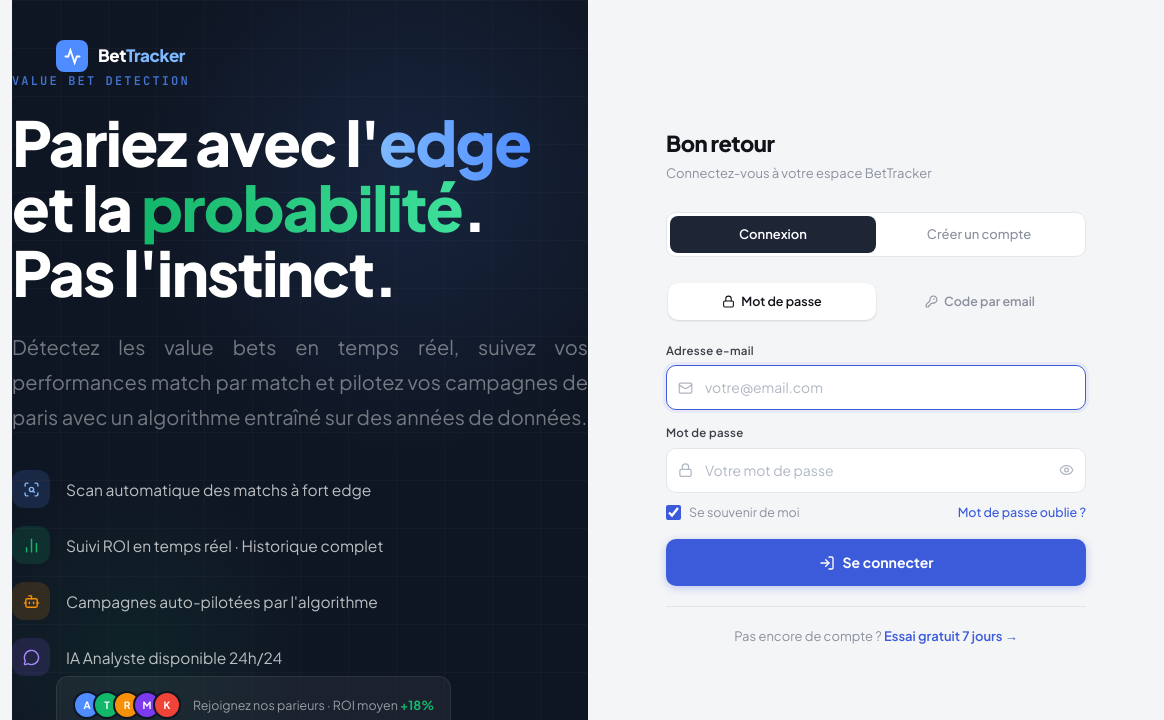
Test case: Login page — formulaire inscription › valide la longueur du mot de passe (min 8 caractères)
Click the button "Créer un compte". click: (979, 235)
box: [876,216,1082,253]
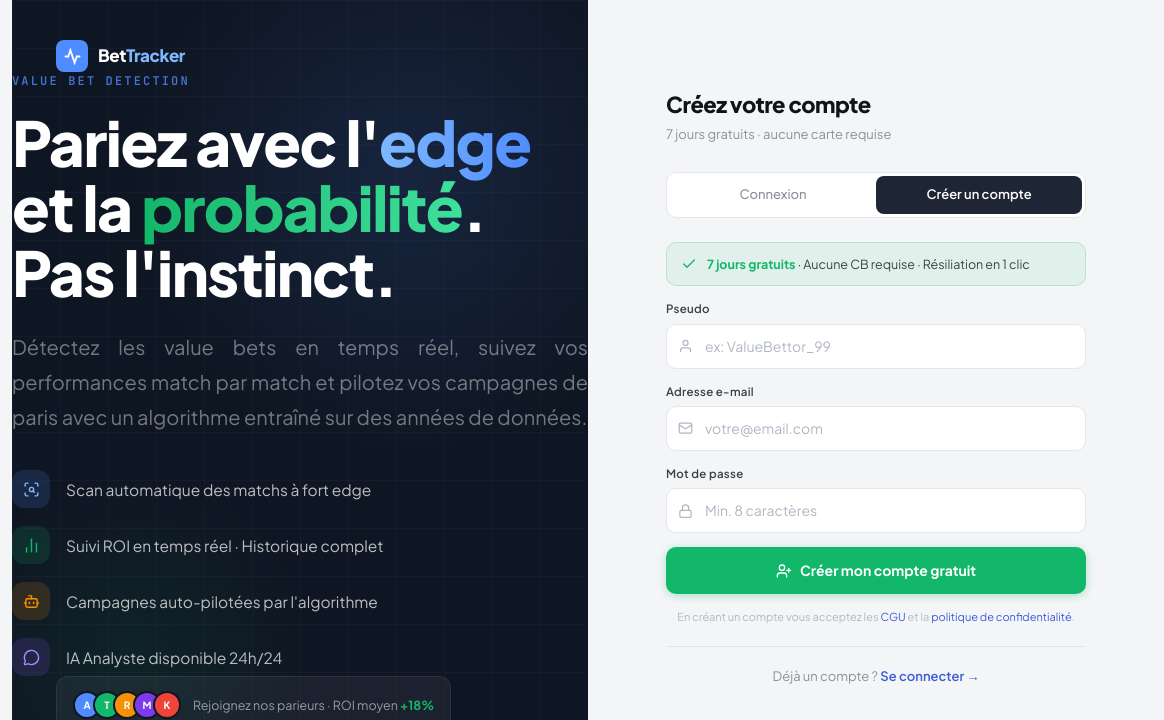
Type "TestUser" into the field with placeholder "ex: ValueBettor_99". click: (876, 346)
box: [666,324,1086,369]
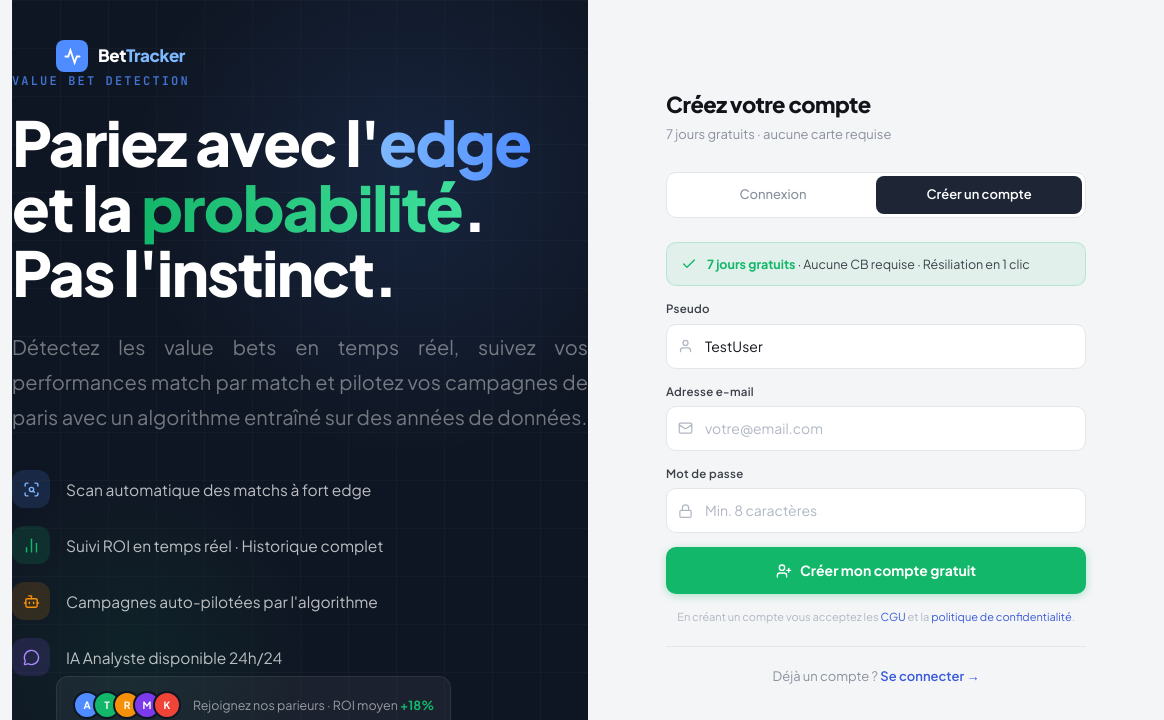
Type "new@test.com" into the field with placeholder "votre@email.com". click: (876, 428)
box: [666,406,1086,451]
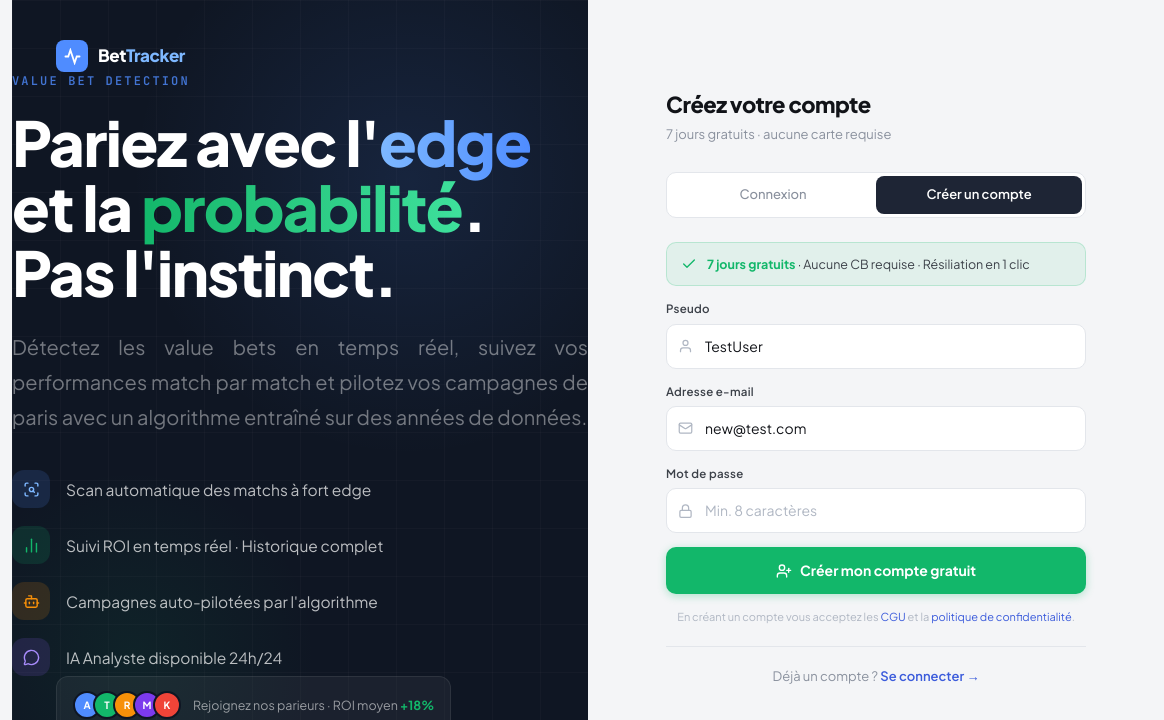
Type "short" into the password field with placeholder "Min. 8 caractères". click: (876, 511)
box: [666,488,1086,533]
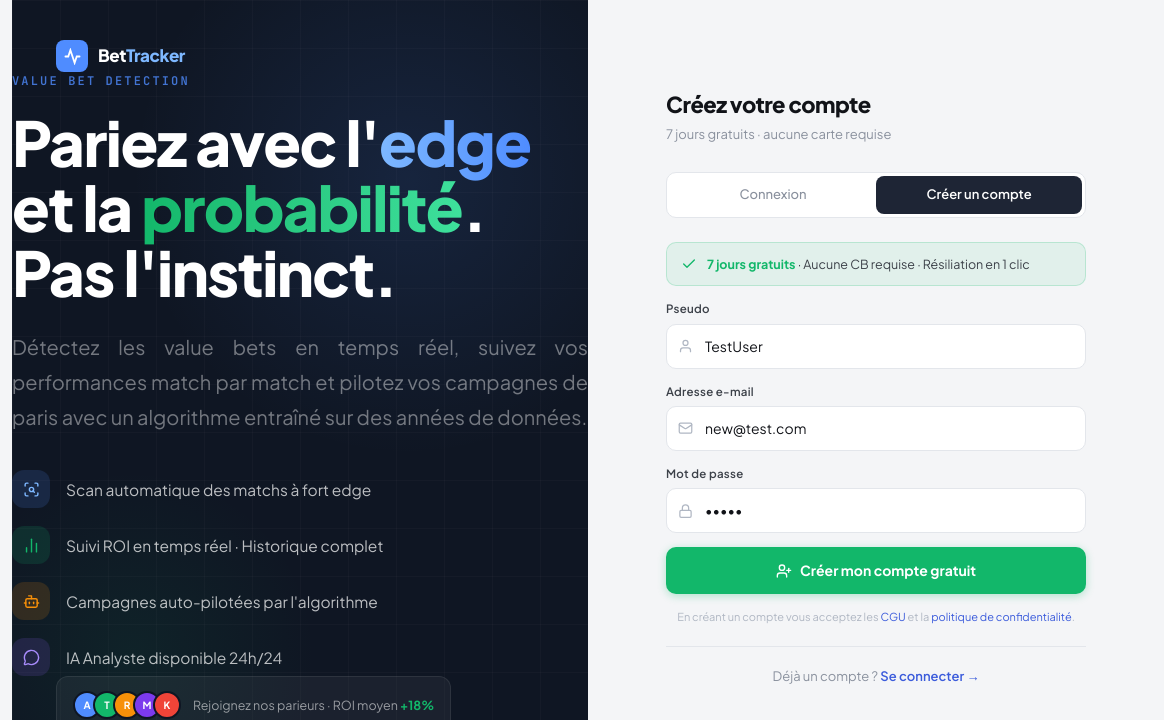
Click the button "Créer mon compte gratuit". click: (876, 571)
box: [666,547,1086,594]
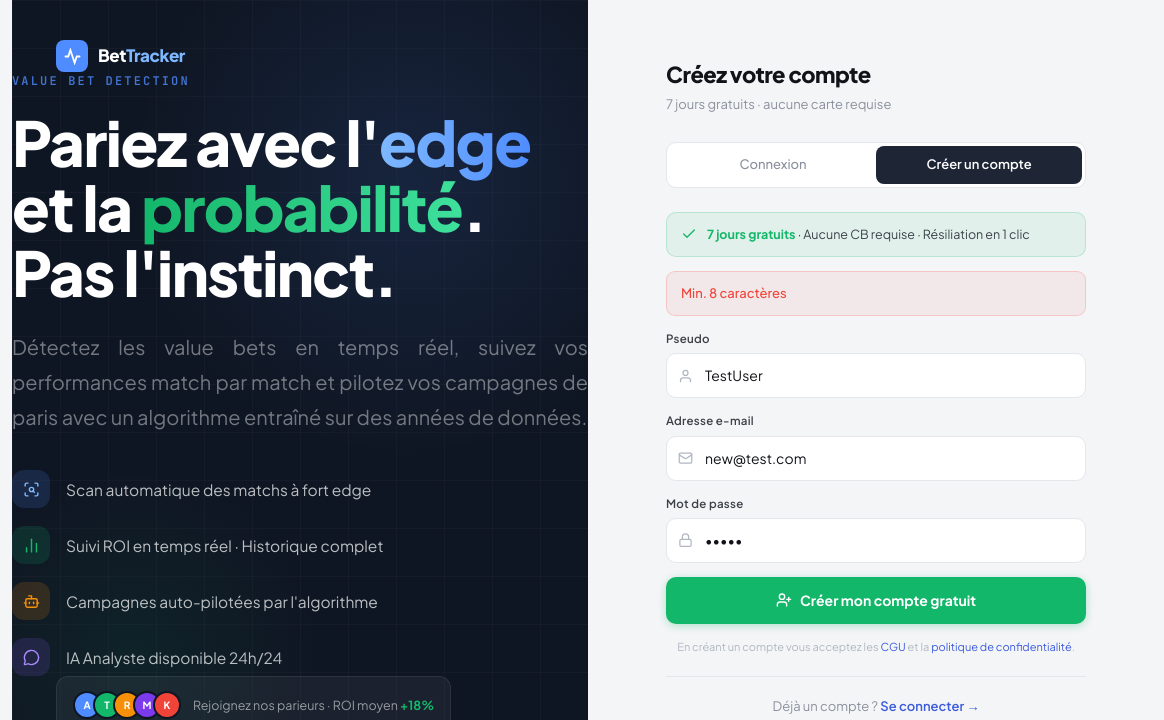
Check: the text "Min. 8 caractères" is shown, box [666,271,1086,316]
